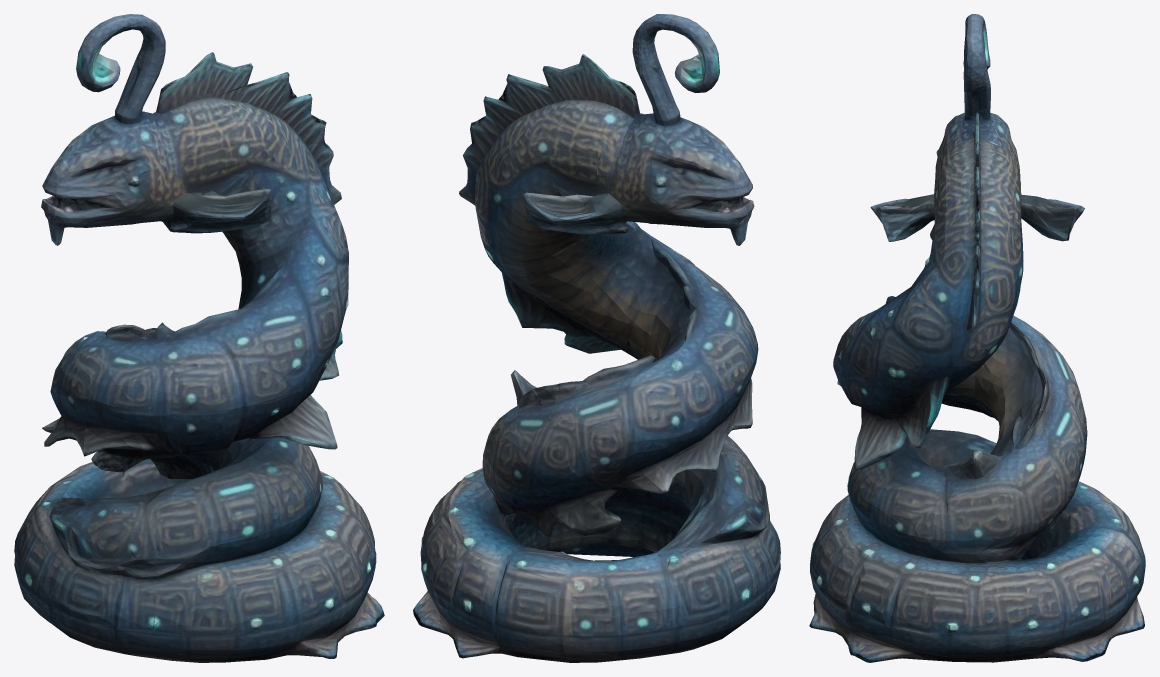
Rendered from lanternEel.glb.
The picture shows the model from 3 angles, left to right: view 1: azimuth 30°, elevation 25°; view 2: azimuth 150°, elevation 25°; view 3: azimuth 270°, elevation 25°; orthographic projection. The views are drawn at different scales.
Parts seen in each view (by area): view 1: world; view 2: world; view 3: world.
Part boxes in pixels (box(x1,y1,x2,y2)): world: box(14, 14, 384, 662); world: box(413, 14, 780, 662); world: box(809, 14, 1145, 662).
Bounding box in the file's own units: 0.5446 × 0.9998 × 0.5499.
1 material, 1 textured.
